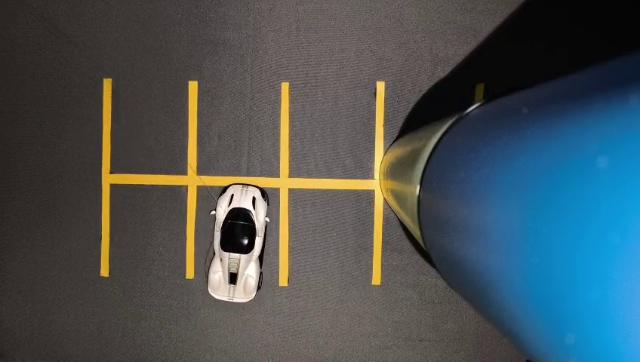toy_car: (188, 157, 290, 315)
